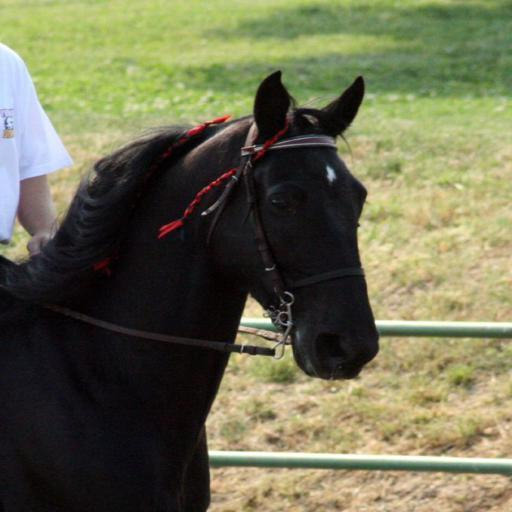horse: (0, 66, 384, 512)
